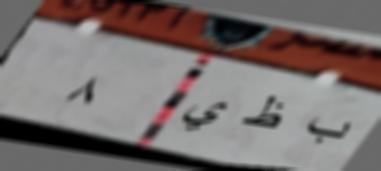8: (64, 67, 102, 112)
Thaa: (240, 90, 288, 139)
baa: (301, 107, 353, 154)
yaa: (180, 97, 228, 134)
